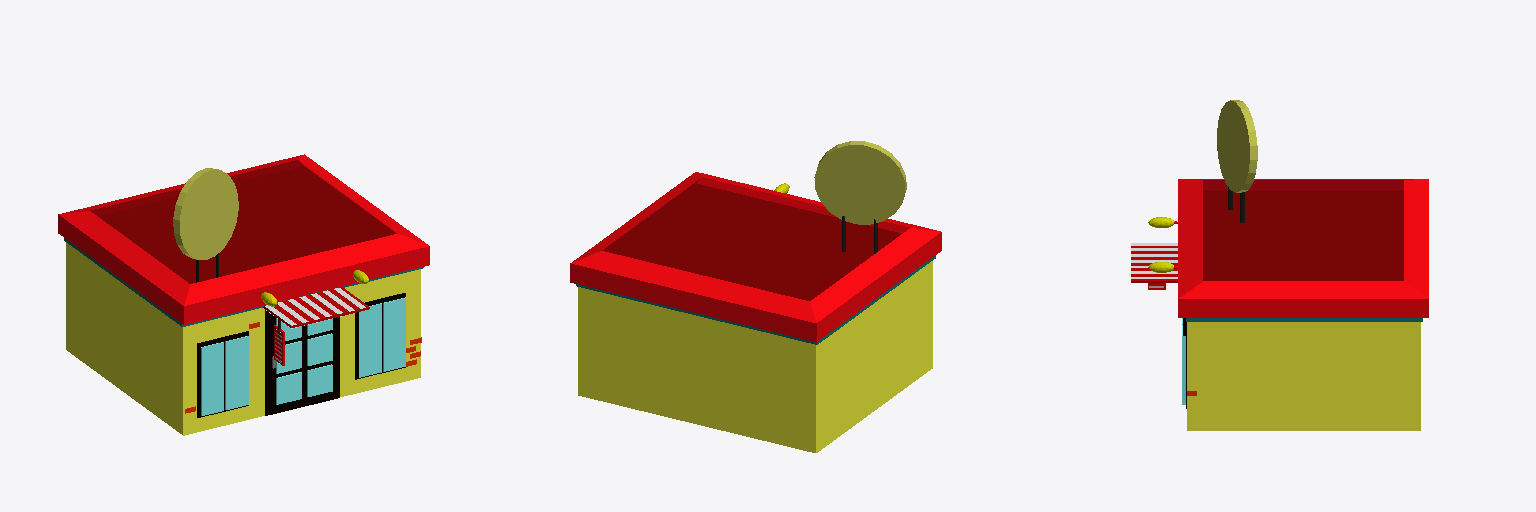
File: restaurante.obj
3 views of the same model, side by side, from view 1: azimuth 30°, elevation 25°; view 2: azimuth 150°, elevation 25°; view 3: azimuth 270°, elevation 25° (orthographic).
Parts seen in each view (by area): view 1: pCube35; view 2: pCube35; view 3: pCube35.
Part boxes in pixels (left/top/right/bottom): pCube35: left=58, top=154, right=429, bottom=435; pCube35: left=570, top=141, right=941, bottom=452; pCube35: left=1131, top=100, right=1428, bottom=430.
Bounding box in the file's own units: 23.63 × 21.44 × 24.78.